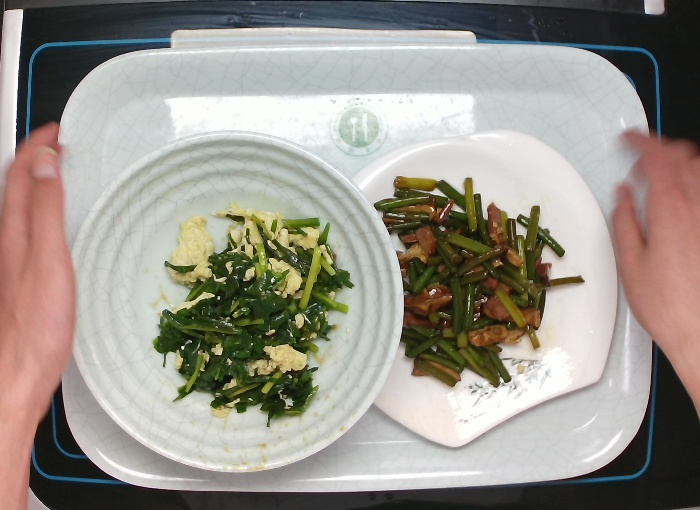JYsf-Da_Tang_Wan: (64, 133, 406, 478)
JYsf-Mian_Pan: (351, 136, 621, 444)
